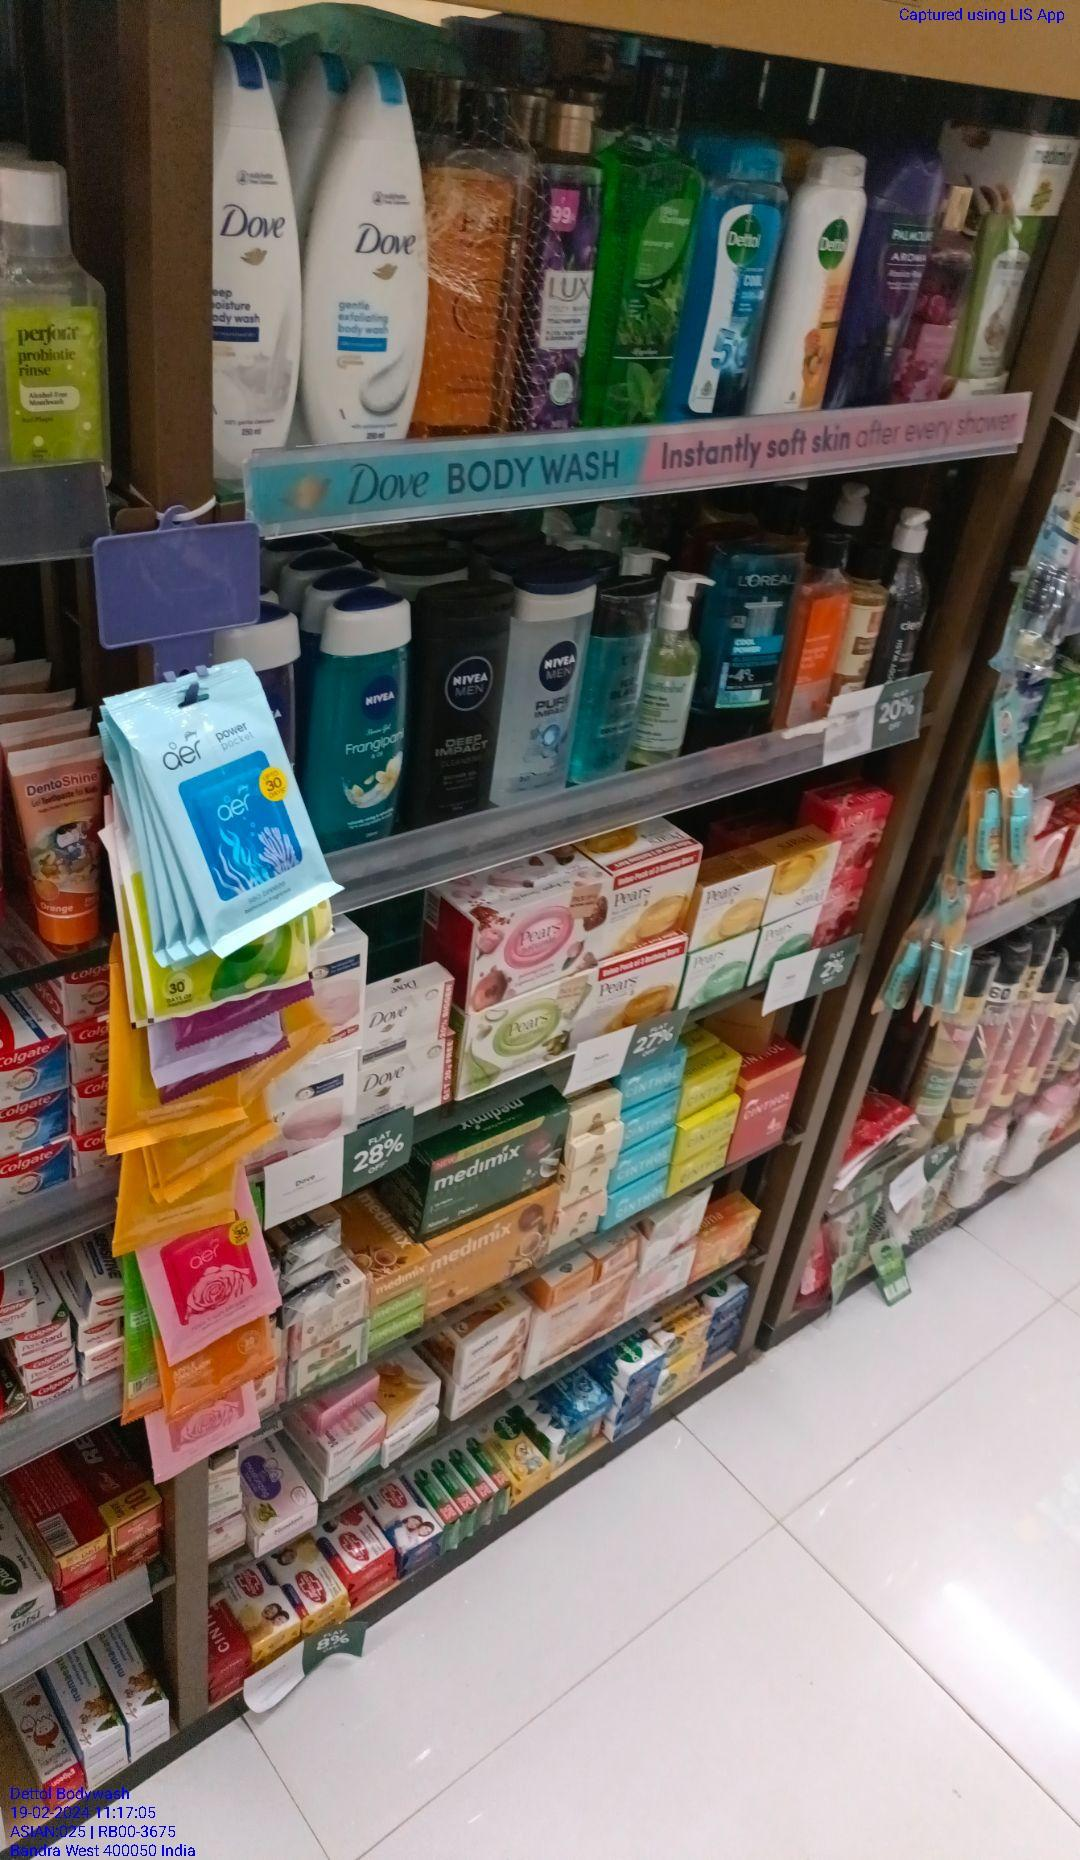Dettol_Bodywash_Cool: (697, 130, 784, 422)
Dove_Deep_Moisture_Body_Wash_250ML: (206, 31, 296, 472)
Dove_Gentle_Exfoliating_Body_Wash_250ML: (301, 21, 433, 449)
Nivea_Shower_Gel_Frangipani_and_Oil_250ML: (303, 587, 414, 864)
